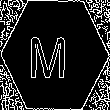M_N: (35, 30, 75, 80)
